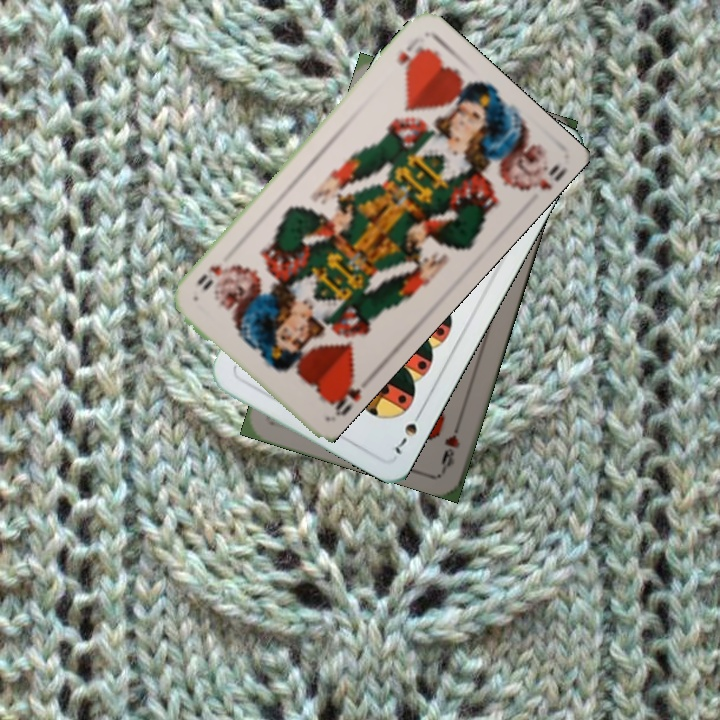H9: (437, 414, 465, 472)
HO: (323, 366, 364, 419), (392, 32, 430, 76)
S7: (387, 405, 426, 457)
